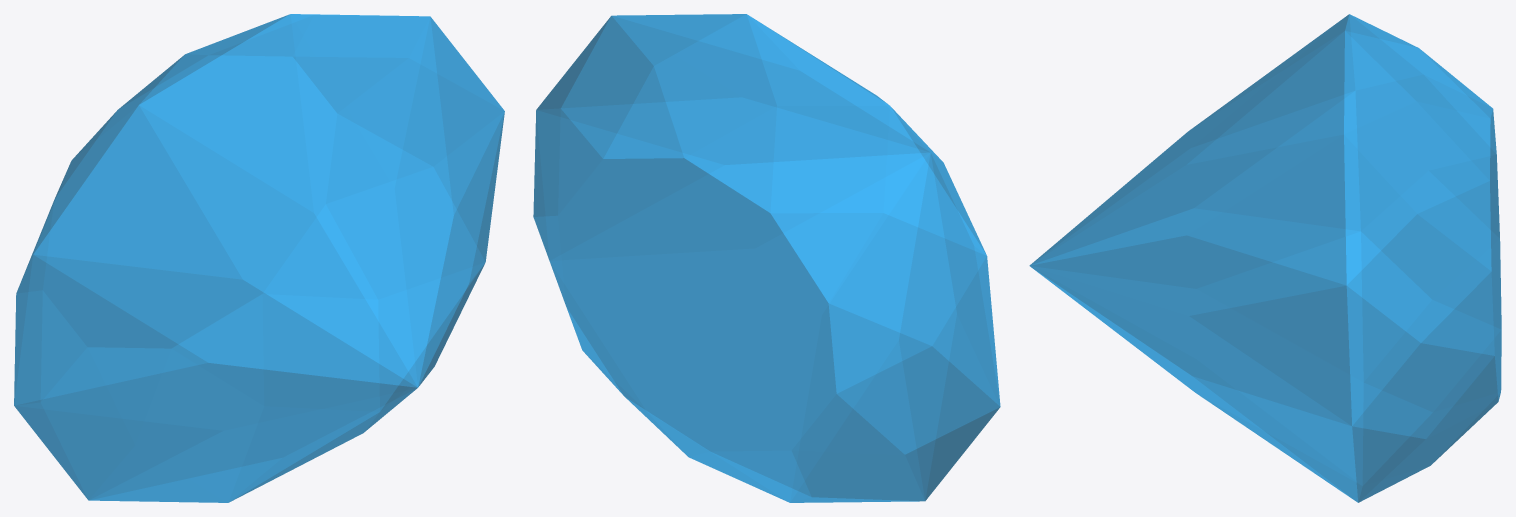
Rendered from gem3.fbx.
3 views of the same model, side by side, from view 1: azimuth 30°, elevation 25°; view 2: azimuth 150°, elevation 25°; view 3: azimuth 270°, elevation 25° (orthographic). The views are drawn at different scales.
Visible parts, largest first — view 1: Gem; view 2: Gem; view 3: Gem.
Part boxes in pixels (x1=…): Gem: x1=14, y1=14, x2=504, y2=502; Gem: x1=533, y1=14, x2=1000, y2=502; Gem: x1=1029, y1=14, x2=1501, y2=502.
Size of the model in its own units: 162 by 154 by 137.
